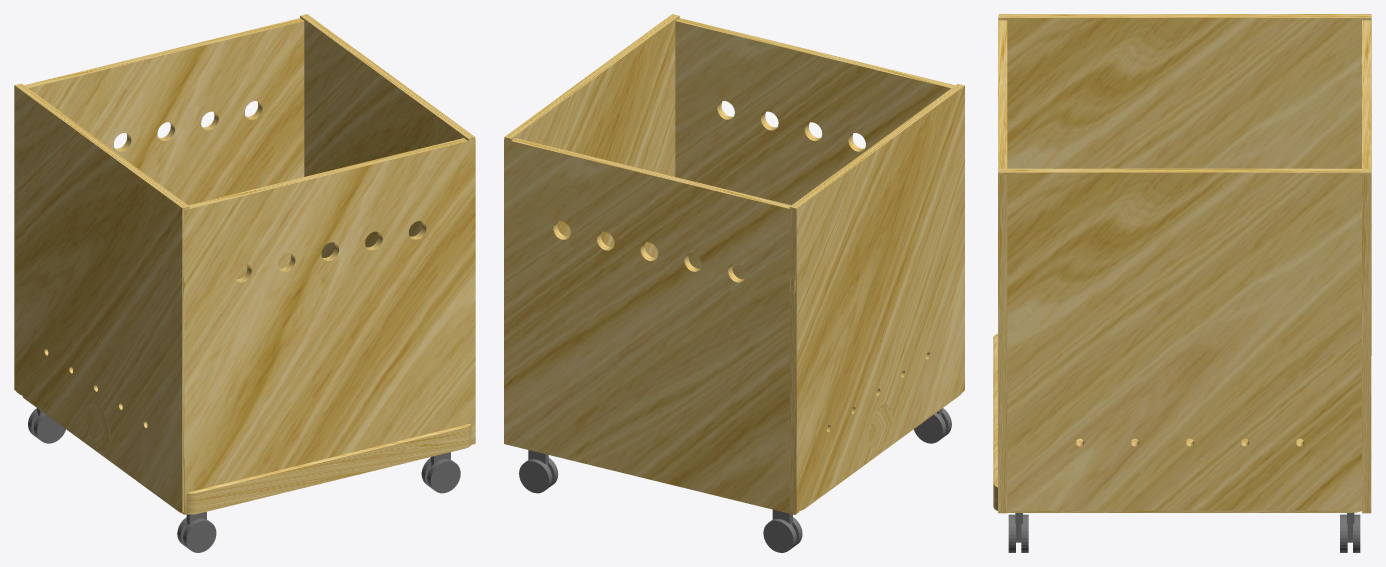
3 views of the same model, side by side, from view 1: azimuth 30°, elevation 25°; view 2: azimuth 150°, elevation 25°; view 3: azimuth 270°, elevation 25° (orthographic). The views are drawn at different scales.
Visible parts, largest first — view 1: 003_Cube.001, 001_Cube.001, 004_Cube.001, 002_Cube.001, 000_Box_2.001, 002_Circle.001, 003_Circle.002, 004_Circle.004; view 2: 004_Cube.001, 001_Cube.001, 003_Cube.001, 002_Cube.001, 004_Circle.004, 005_Circle.003, 002_Circle.001; view 3: 002_Cube.001, 001_Cube.001, 003_Cube.001, 004_Cube.001, 000_Box_2.001, 003_Circle.002, 005_Circle.003.
Part boxes in pixels (x1,y1,x2,y2): 003_Cube.001: (182, 138, 475, 514); 001_Cube.001: (14, 83, 189, 512); 004_Cube.001: (16, 18, 304, 394); 002_Cube.001: (300, 14, 475, 257); 000_Box_2.001: (22, 396, 471, 514); 002_Circle.001: (177, 511, 216, 552); 003_Circle.002: (421, 452, 460, 493); 004_Circle.004: (28, 408, 65, 443); 004_Cube.001: (504, 138, 798, 514); 001_Cube.001: (789, 84, 964, 513); 003_Cube.001: (675, 18, 963, 393); 002_Cube.001: (504, 14, 679, 257); 004_Circle.004: (763, 509, 802, 552); 005_Circle.003: (519, 450, 558, 493); 002_Circle.001: (914, 408, 951, 443); 002_Cube.001: (998, 168, 1371, 510); 001_Cube.001: (998, 14, 1371, 355); 003_Cube.001: (998, 17, 1007, 513); 004_Cube.001: (1362, 20, 1371, 513); 000_Box_2.001: (993, 333, 1361, 512); 003_Circle.002: (1008, 513, 1028, 552); 005_Circle.003: (1340, 513, 1360, 552).
Size of the model in its own units: 0.4023 by 0.4639 by 0.4056.
Materials: 8 (4 with a texture image).
